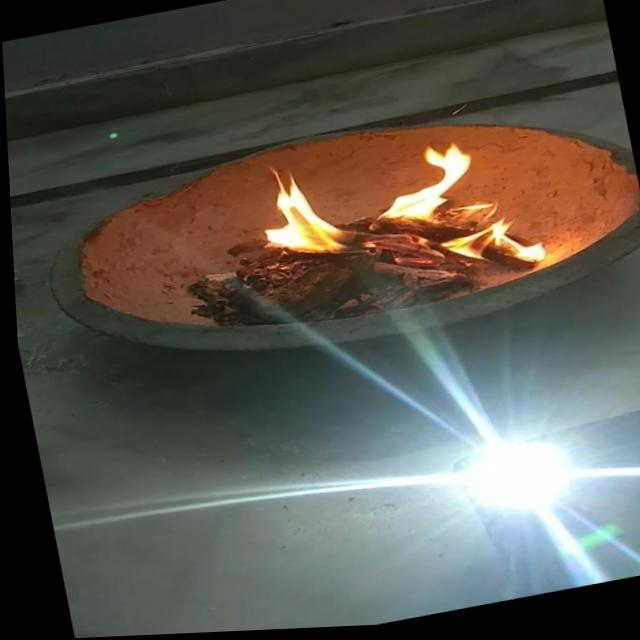fire: (226, 161, 364, 277), (360, 134, 503, 244), (432, 209, 558, 288)
